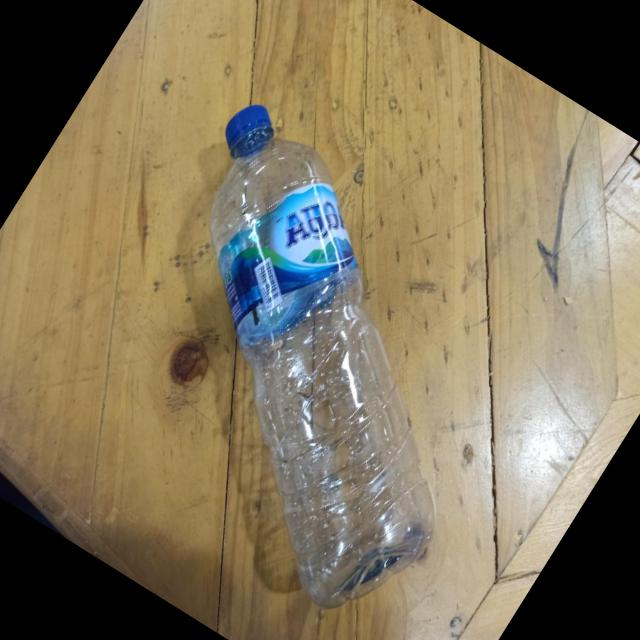BotolPlastik: (35, 92, 582, 640)
